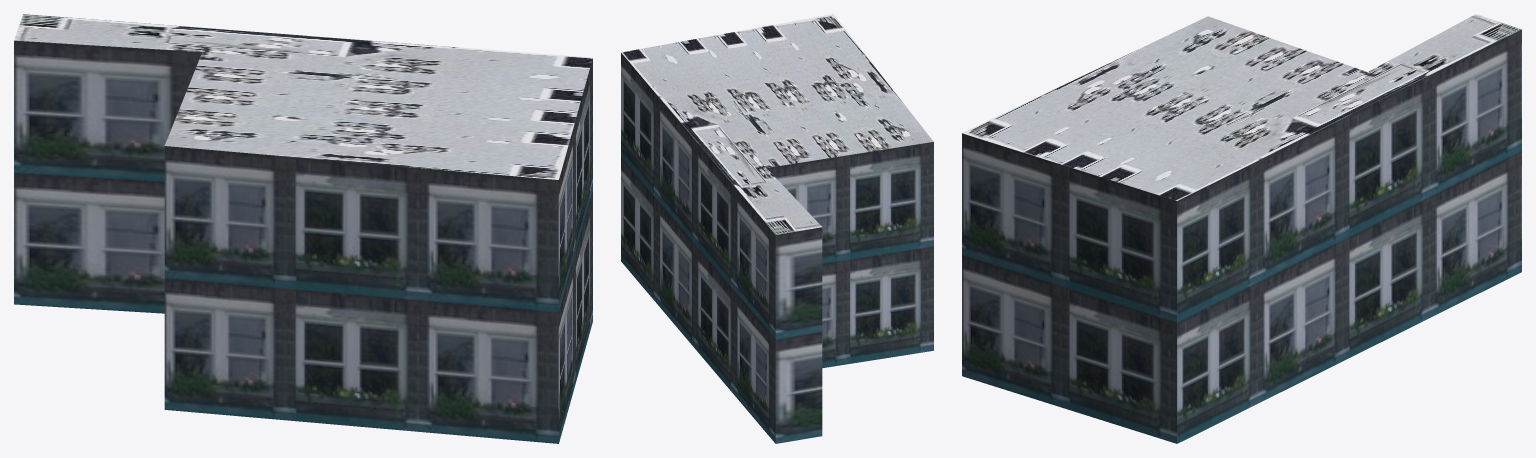
Rendered from ResTex__104.fbx.
3 renders of one model, left to right at view 1: azimuth 30°, elevation 25°; view 2: azimuth 150°, elevation 25°; view 3: azimuth 270°, elevation 25°, orthographic. The views are drawn at different scales.
Parts seen in each view (by area): view 1: CityEngineMaterial_11_m, CityEngineMaterial_m; view 2: CityEngineMaterial_11_m, CityEngineMaterial_m; view 3: CityEngineMaterial_11_m, CityEngineMaterial_m.
Boxes of the visible parts, x1,y1,x2,y2 form: CityEngineMaterial_11_m: (14,40,592,443); CityEngineMaterial_m: (14,14,592,179); CityEngineMaterial_11_m: (621,53,933,443); CityEngineMaterial_m: (621,14,933,234); CityEngineMaterial_11_m: (962,29,1521,443); CityEngineMaterial_m: (962,14,1521,200).
Size of the model in its own units: 9.91 by 6 by 12.53.
Materials: 2 (2 with a texture image).
